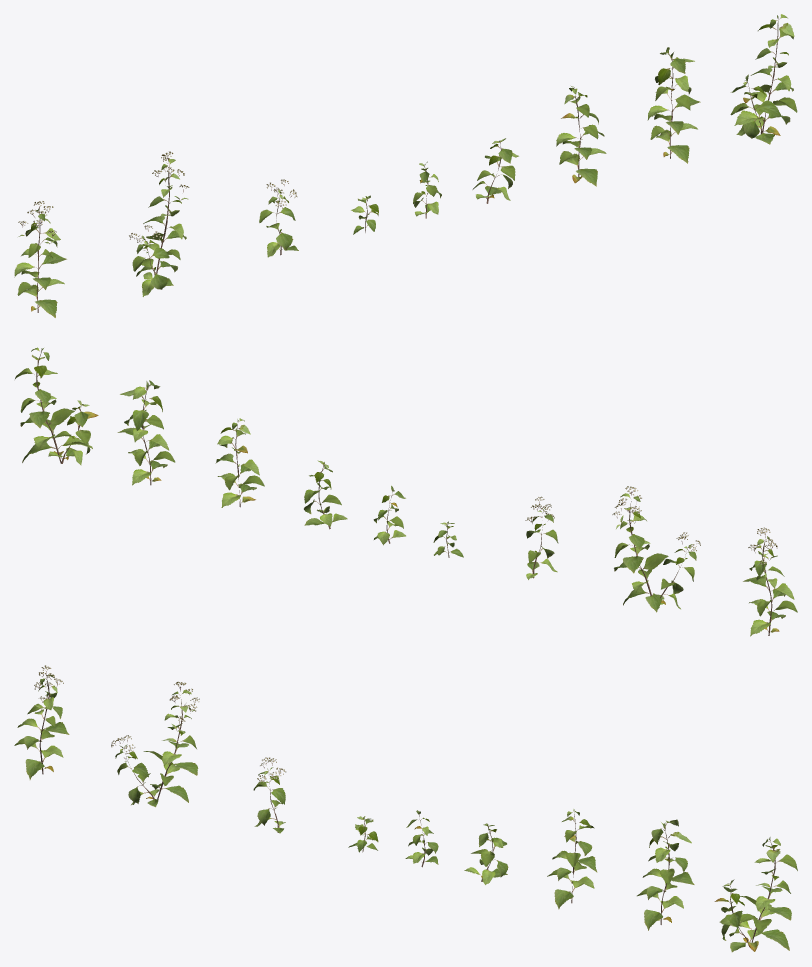
Rendered from shrub_01.glb.
3 renders of one model, top to bottom at view 1: azimuth 30°, elevation 25°; view 2: azimuth 150°, elevation 25°; view 3: azimuth 330°, elevation 25°, orthographic. The views are drawn at different scales.
Parts seen in each view (by area): view 1: shrub_01_a; view 2: shrub_01_a; view 3: shrub_01_a.
Boxes of the visible parts, box(x1,y1,x2,y2) form: shrub_01_a: box(14, 14, 797, 317); shrub_01_a: box(15, 347, 797, 636); shrub_01_a: box(14, 665, 797, 952).
Size of the model in its own units: 2.59 by 0.3953 by 0.2185.
1 material, 1 textured.
